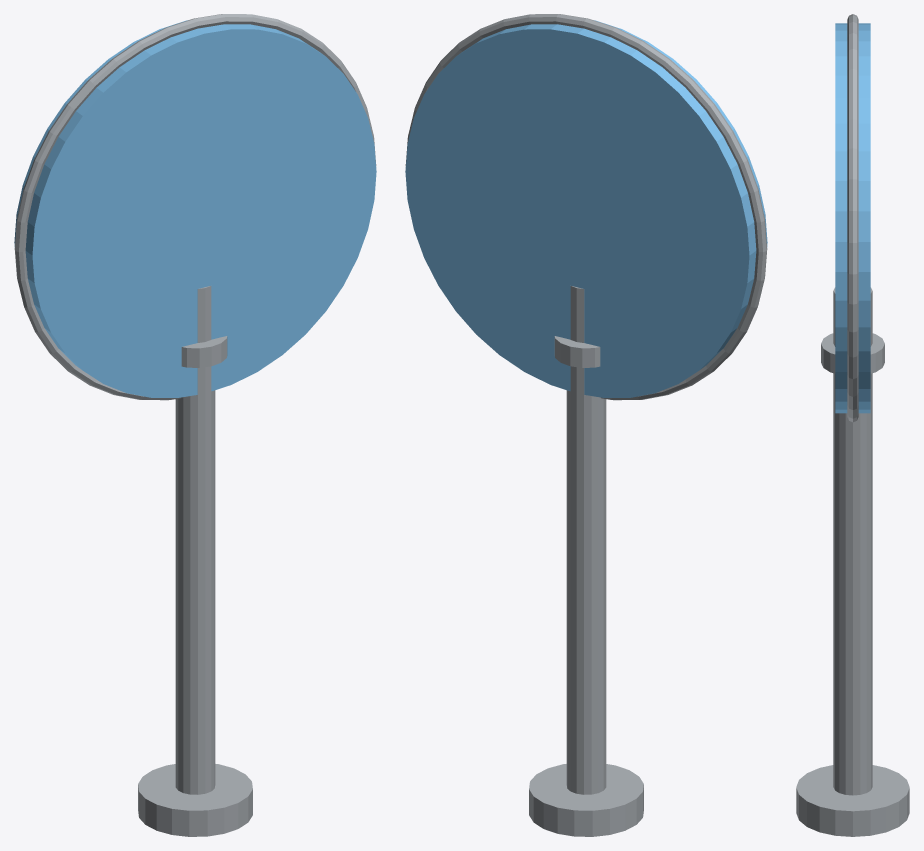
File: state-fair-pin-water-station.glb
3 renders of one model, left to right at view 1: azimuth 30°, elevation 25°; view 2: azimuth 150°, elevation 25°; view 3: azimuth 270°, elevation 25°, orthographic.
Visible parts, largest first — view 1: SFPIN_SignDisc, SFPIN_Post, SFPIN_Rim, SFPIN_Base, SFPIN_Collar; view 2: SFPIN_SignDisc, SFPIN_Post, SFPIN_Rim, SFPIN_Base, SFPIN_Collar; view 3: SFPIN_Post, SFPIN_SignDisc, SFPIN_Base, SFPIN_Rim, SFPIN_Collar.
Boxes of the visible parts, x1=… form: SFPIN_SignDisc: x1=14, y1=20, x2=376, y2=397; SFPIN_Post: x1=175, y1=286, x2=215, y2=794; SFPIN_Rim: x1=14, y1=14, x2=376, y2=400; SFPIN_Base: x1=138, y1=764, x2=252, y2=836; SFPIN_Collar: x1=181, y1=336, x2=227, y2=367; SFPIN_SignDisc: x1=405, y1=20, x2=767, y2=397; SFPIN_Post: x1=566, y1=286, x2=606, y2=794; SFPIN_Rim: x1=405, y1=14, x2=767, y2=400; SFPIN_Base: x1=529, y1=764, x2=643, y2=836; SFPIN_Collar: x1=554, y1=336, x2=600, y2=367; SFPIN_Post: x1=833, y1=287, x2=872, y2=795; SFPIN_SignDisc: x1=835, y1=23, x2=870, y2=413; SFPIN_Base: x1=796, y1=765, x2=909, y2=836; SFPIN_Rim: x1=847, y1=14, x2=858, y2=422; SFPIN_Collar: x1=821, y1=333, x2=884, y2=373.
Size of the model in its own units: 1.15 by 2.43 by 0.32.
